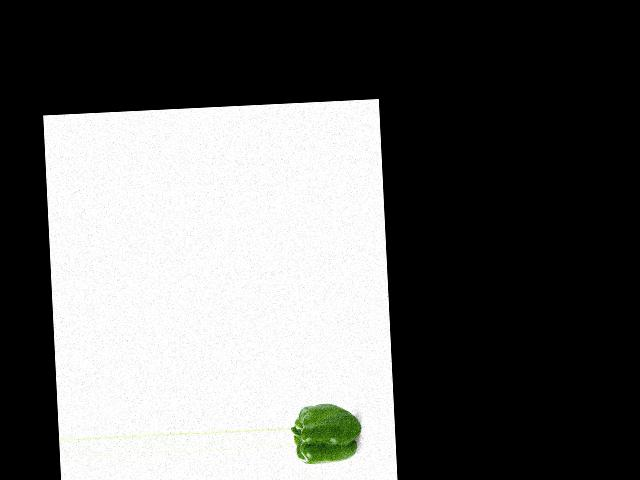bell_pepper: (291, 400, 360, 466)
